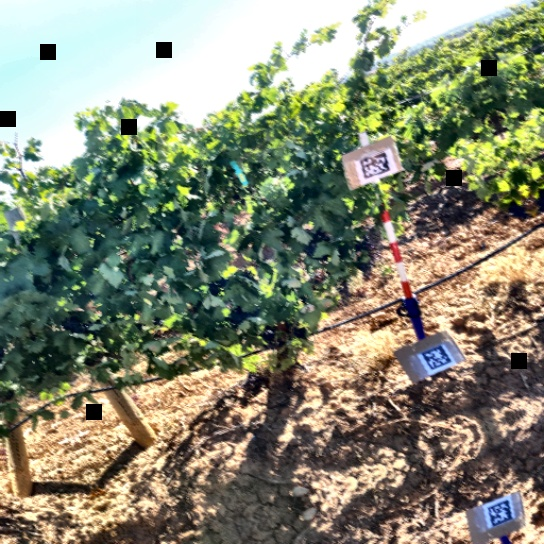QR: (356, 150, 393, 181), (421, 344, 452, 373)
